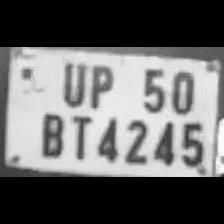0: (164, 67, 198, 115)
2: (119, 114, 148, 166)
4: (92, 112, 120, 164), (148, 116, 176, 168)
5: (176, 116, 204, 168), (137, 64, 167, 112)
B: (36, 108, 66, 158)
P: (84, 60, 116, 108)
T: (64, 110, 94, 162)
U: (55, 57, 87, 106)
